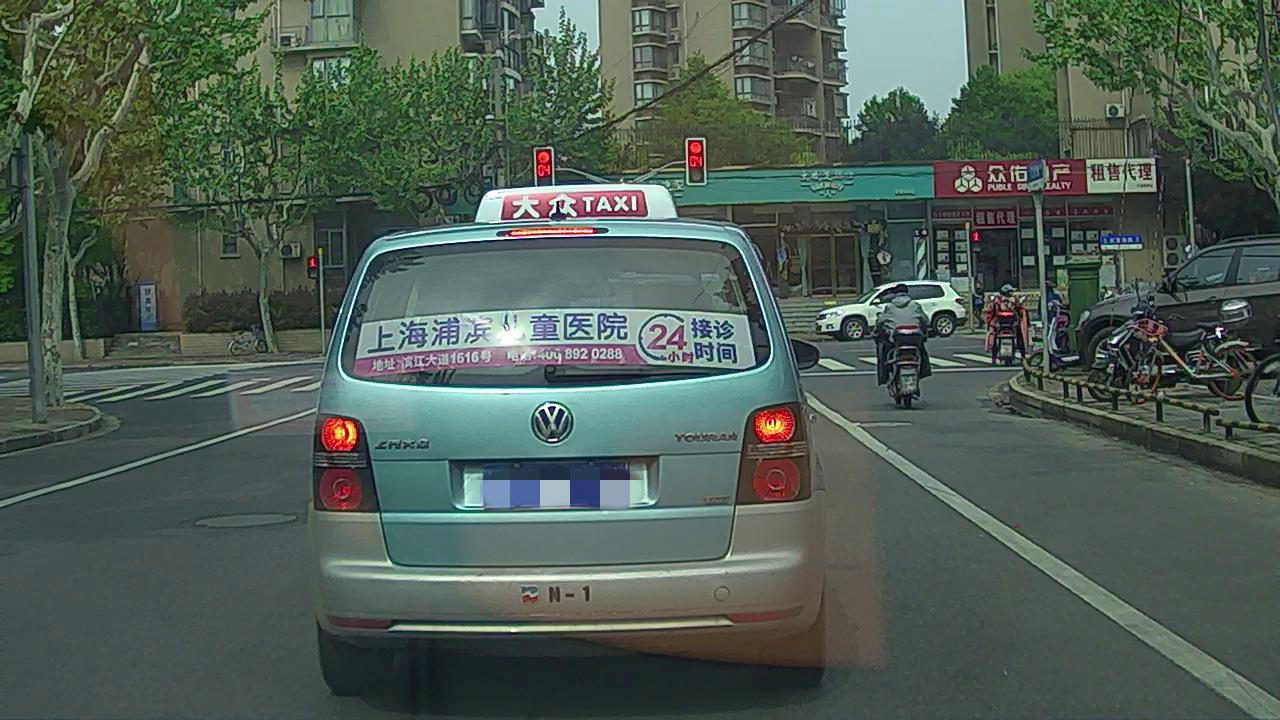traffic_light: (535, 148, 554, 187), (688, 139, 704, 183)
